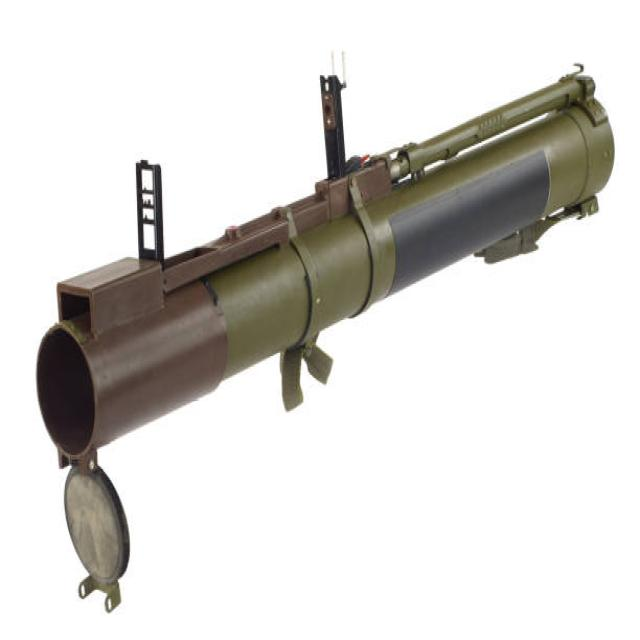bazooka: (30, 42, 620, 618)
